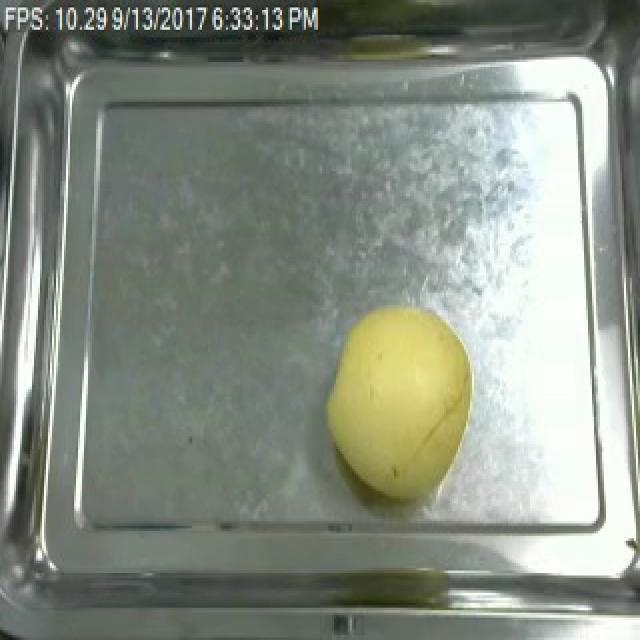Fruit: (318, 295, 482, 501)
